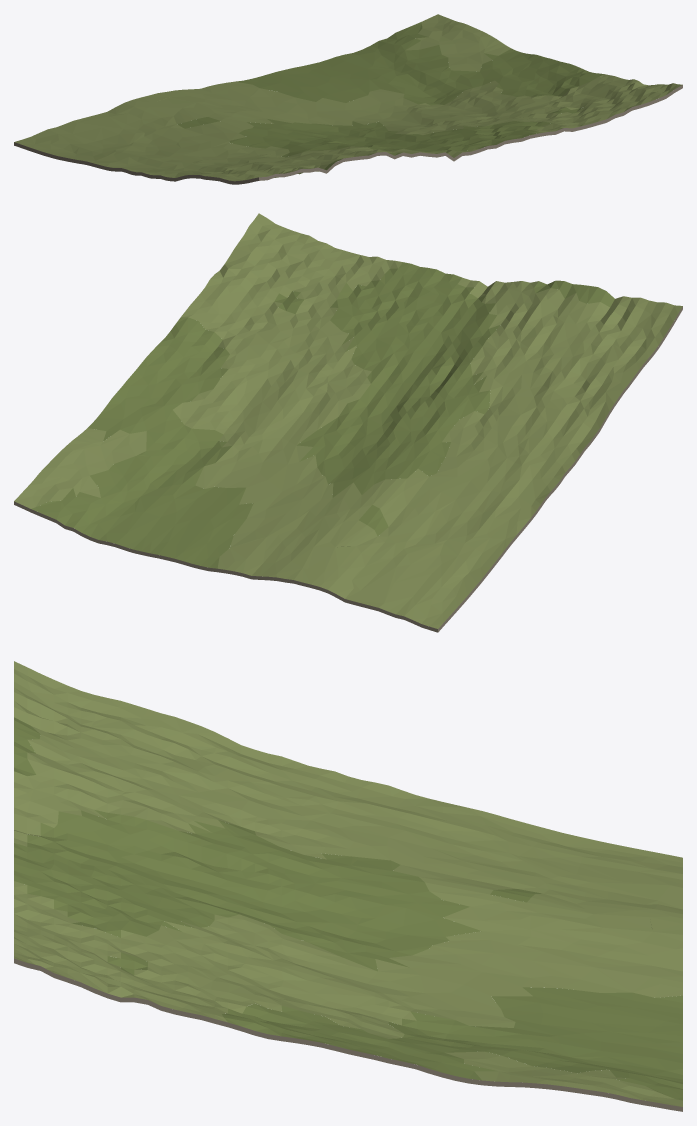
Rendered from parca_+6_-4-uzak.glb.
The picture shows the model from 3 angles, top to bottom: view 1: azimuth 30°, elevation 25°; view 2: azimuth 150°, elevation 25°; view 3: azimuth 270°, elevation 25°; orthographic projection. The views are drawn at different scales.
Parts seen in each view (by area): view 1: parca_+6_-4_arazi_uzak; view 2: parca_+6_-4_arazi_uzak; view 3: parca_+6_-4_arazi_uzak.
Boxes of the visible parts, <box> form: parca_+6_-4_arazi_uzak: <box>14,14,682,184</box>; parca_+6_-4_arazi_uzak: <box>14,213,682,632</box>; parca_+6_-4_arazi_uzak: <box>14,661,682,1111</box>.
Size of the model in its own units: 1000 by 332 by 1000.
